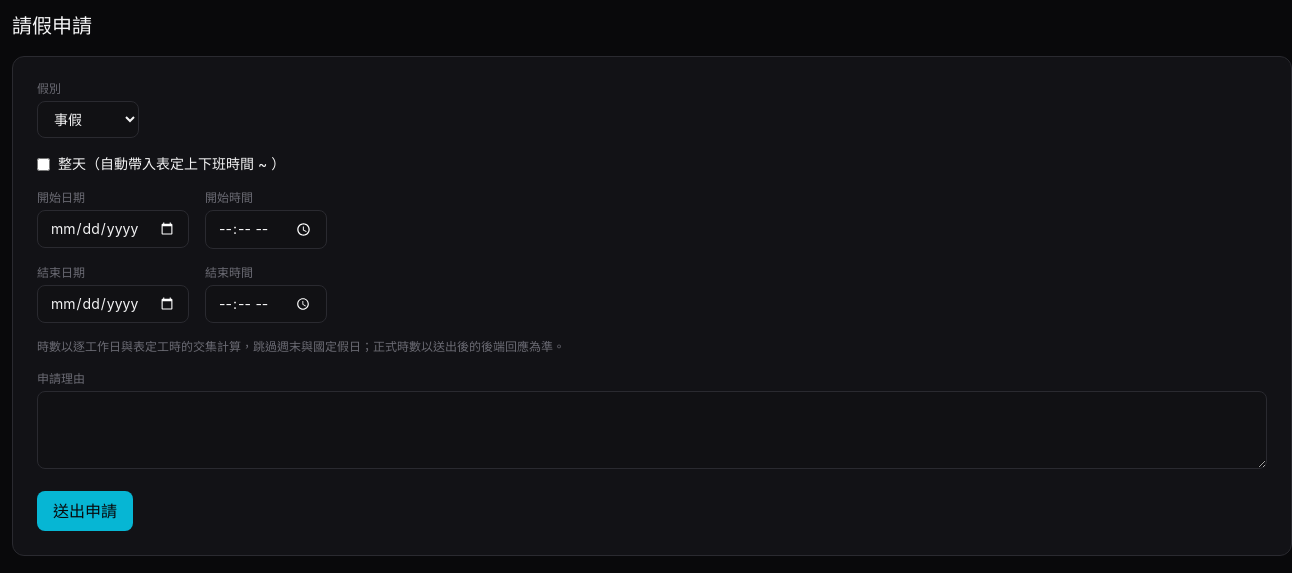
Test: 選擇特別休假時申請理由變為非必填
Select "特別休假" in the dropdown labelled "假別": (88, 120) x1=37 y1=101 x2=139 y2=138
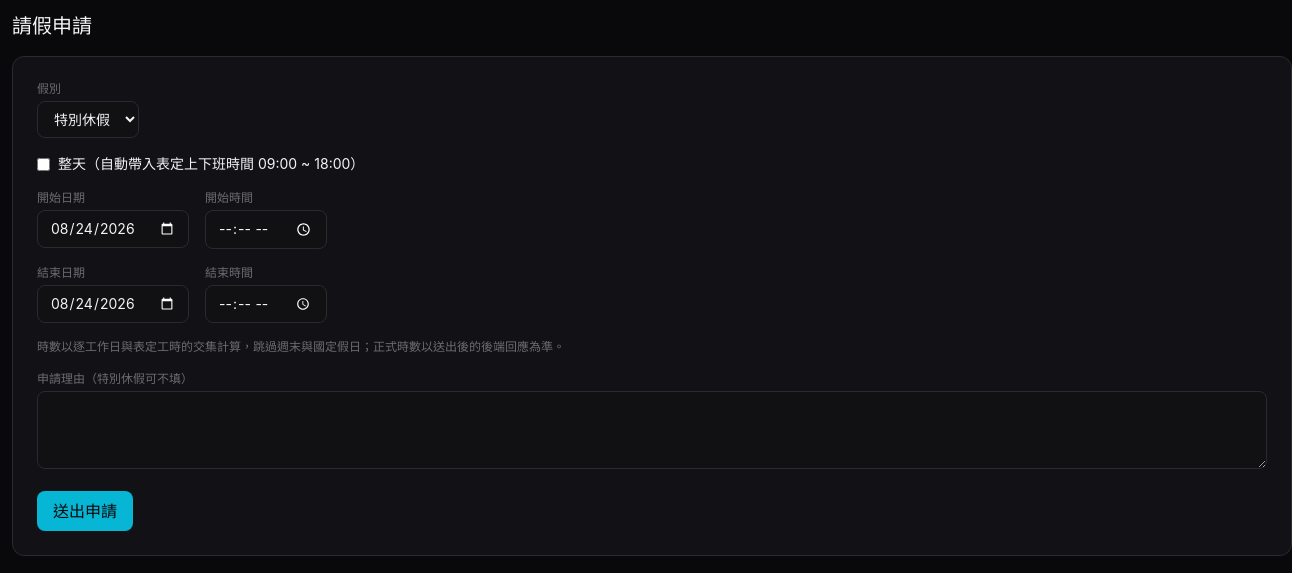
Check: the text "申請理由（特別休假可不填）" is shown, box x1=37 y1=371 x2=193 y2=386
